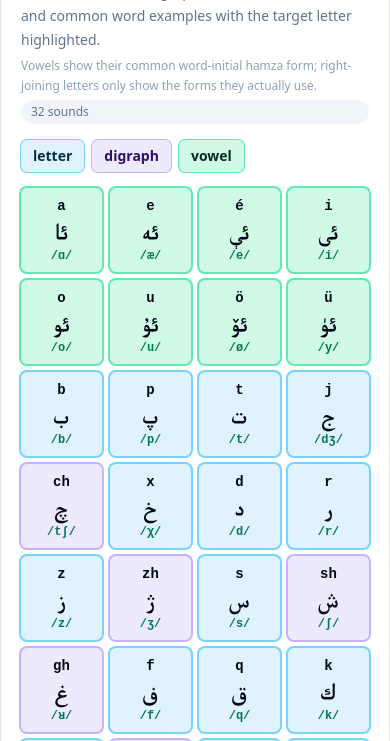
Scenario: AlphabetPanel › renders a word-initial vowel carrier and vowel as one highlighted segment
Click the button "a ئا /ɑ/".
click(62, 230)  # box [21,188,102,272]
(page scrolled)
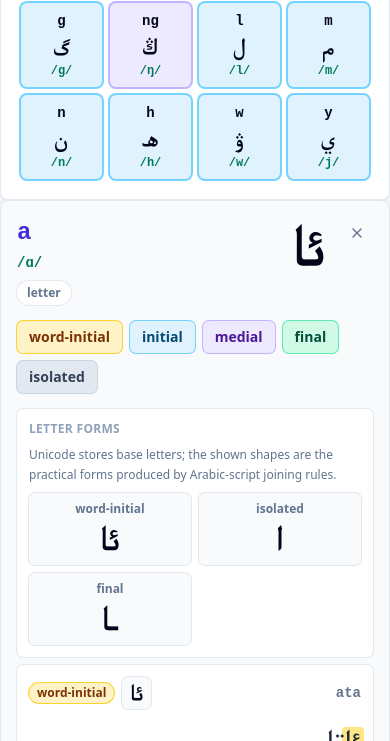
Now the 3rd text titled "word-initial: ئا" is shown, box [122,677,151,709]
Now the element named "Alphabet form legend" is shown, box [17,321,373,393]
